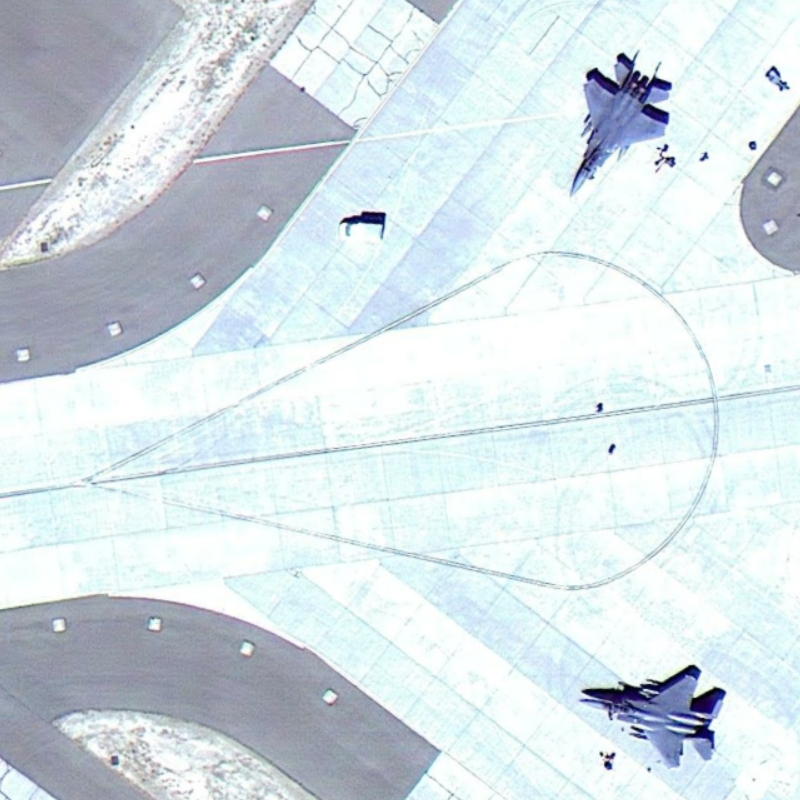A13: (571, 657, 741, 775), (556, 46, 683, 201)
